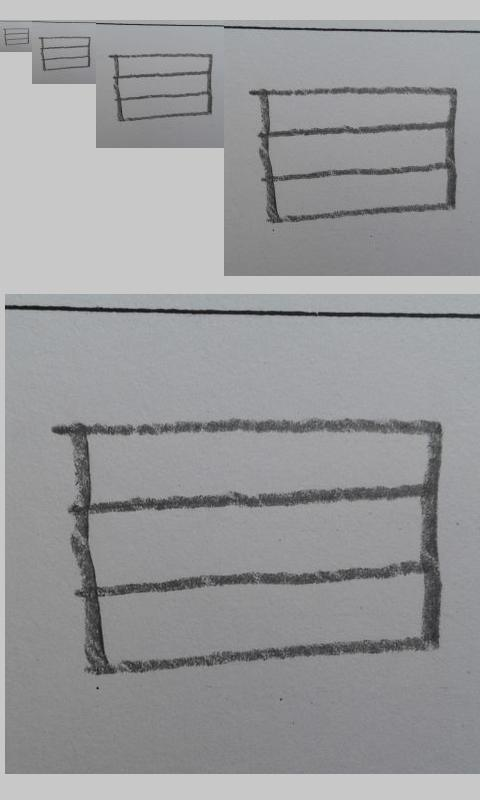list_view: (69, 419, 442, 679), (258, 86, 457, 225), (113, 53, 213, 123), (39, 36, 91, 72), (4, 27, 30, 46)
